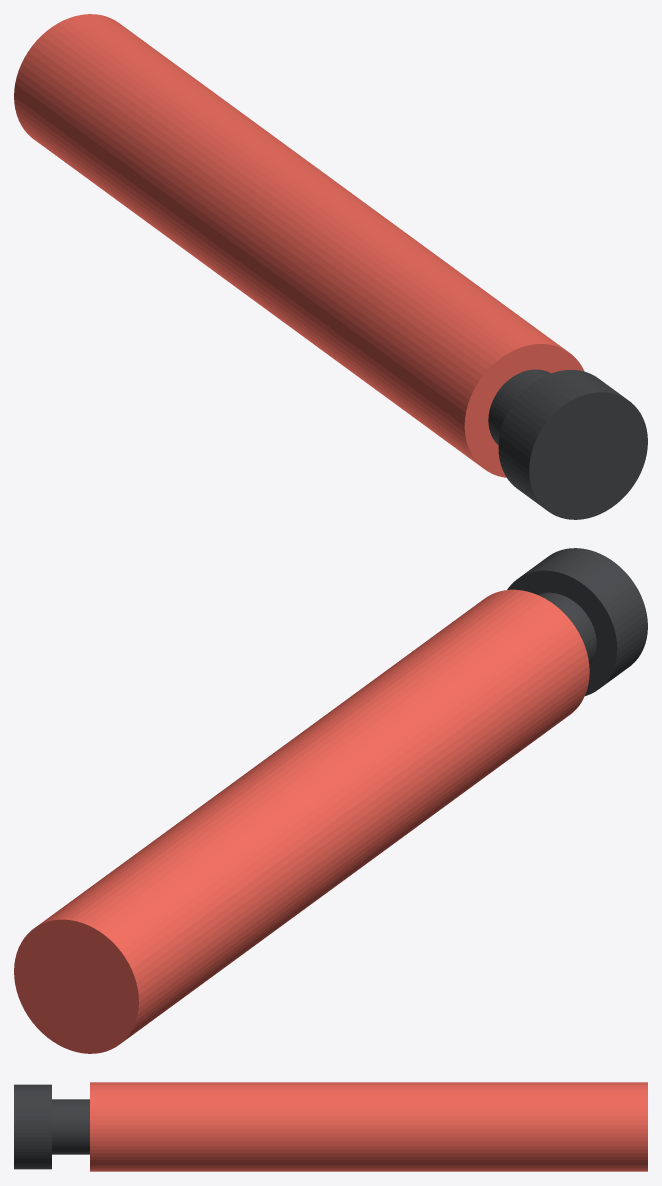
3 views of the same model, one above another, from view 1: azimuth 30°, elevation 25°; view 2: azimuth 150°, elevation 25°; view 3: azimuth 270°, elevation 25° (orthographic). The views are drawn at different scales.
Visible parts, largest first — view 1: sx100_body_0, sx100_body_2, sx100_body_3, sx100_body_1; view 2: sx100_body_0, sx100_body_2, sx100_body_3, sx100_body_1; view 3: sx100_body_0, sx100_body_2, sx100_body_1, sx100_body_3.
Part boxes in pixels (<box>): sx100_body_0: <box>14,14,584,477</box>; sx100_body_2: <box>498,369,647,519</box>; sx100_body_3: <box>14,14,131,144</box>; sx100_body_1: <box>488,369,550,444</box>; sx100_body_0: <box>14,589,589,1053</box>; sx100_body_2: <box>507,548,647,695</box>; sx100_body_3: <box>14,905,159,1053</box>; sx100_body_1: <box>538,592,596,665</box>; sx100_body_0: <box>90,1082,647,1171</box>; sx100_body_2: <box>14,1084,51,1169</box>; sx100_body_1: <box>52,1099,89,1154</box>; sx100_body_3: <box>622,1082,647,1171</box>.
Size of the model in its own units: 0.032 by 0.032 by 0.227.
